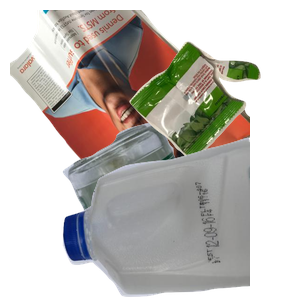glass: (60, 120, 300, 300)
paper: (10, 10, 250, 190)
plastic: (60, 135, 300, 300)
trash: (127, 39, 300, 193)
